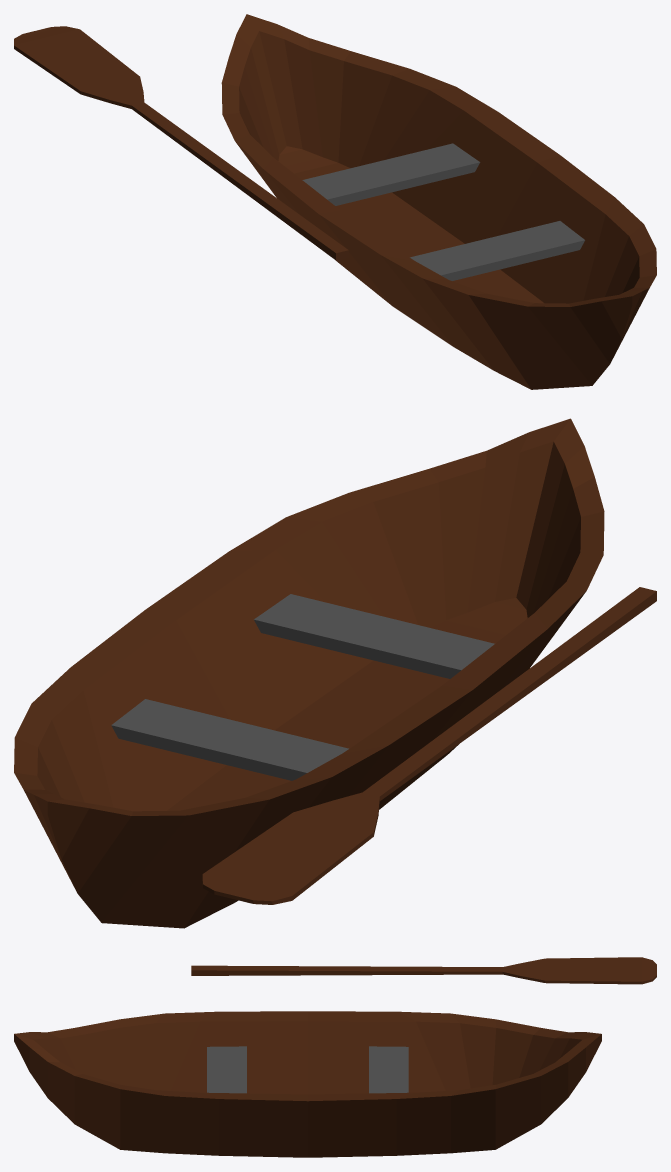
The model's file is kayik.fbx.
3 renders of one model, top to bottom at view 1: azimuth 30°, elevation 25°; view 2: azimuth 150°, elevation 25°; view 3: azimuth 270°, elevation 25°, orthographic. The views are drawn at different scales.
Visible parts, largest first — view 1: kayık, kürek; view 2: kayık, kürek; view 3: kayık, kürek.
Boxes of the visible parts, x1,y1,x2,y2 form: kayık: (221,14,656,389); kürek: (14,26,348,260); kayık: (14,418,604,928); kürek: (202,587,656,904); kayık: (14,1011,601,1157); kürek: (191,957,656,984).
Size of the model in its own units: 505 by 209 by 1128.
